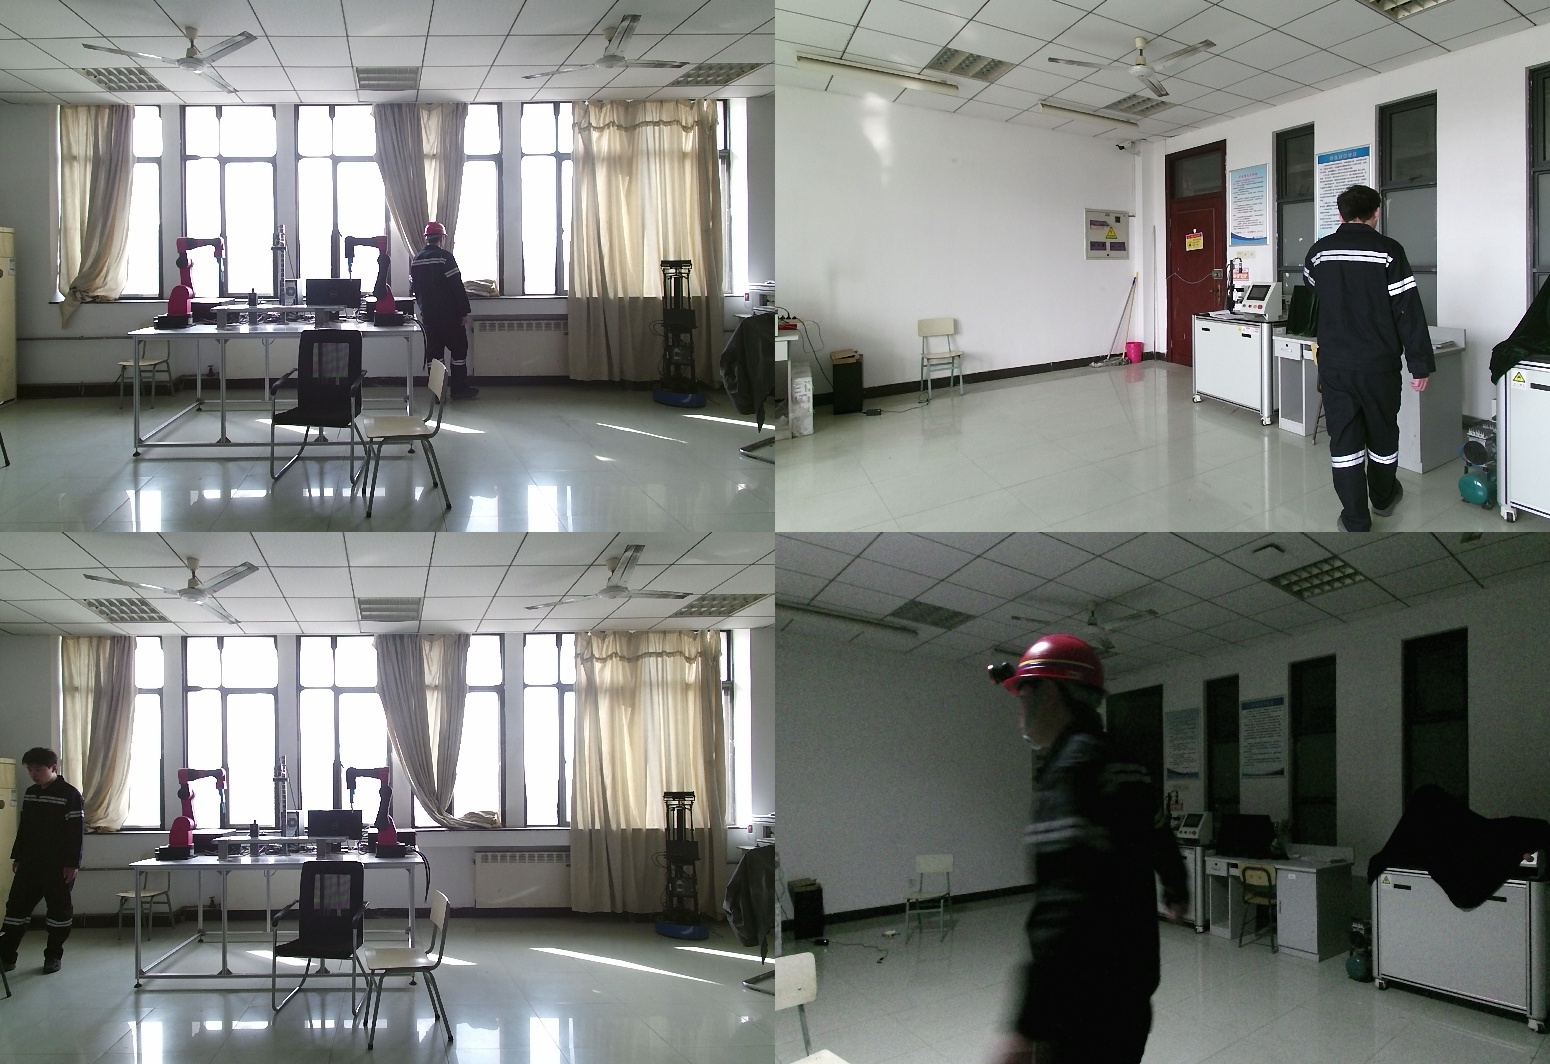person: (991, 633, 1219, 1064), (1299, 189, 1450, 532), (1, 747, 91, 973), (407, 223, 480, 407)
